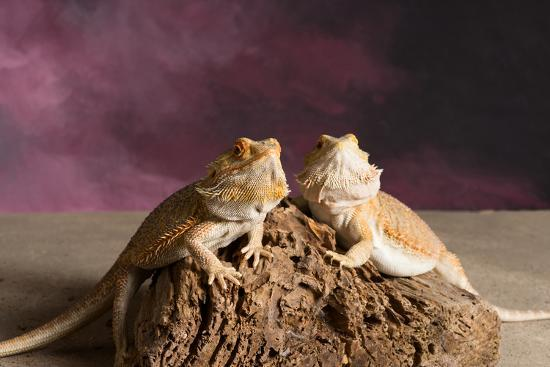bearded: (1, 135, 291, 355), (292, 131, 550, 321)
